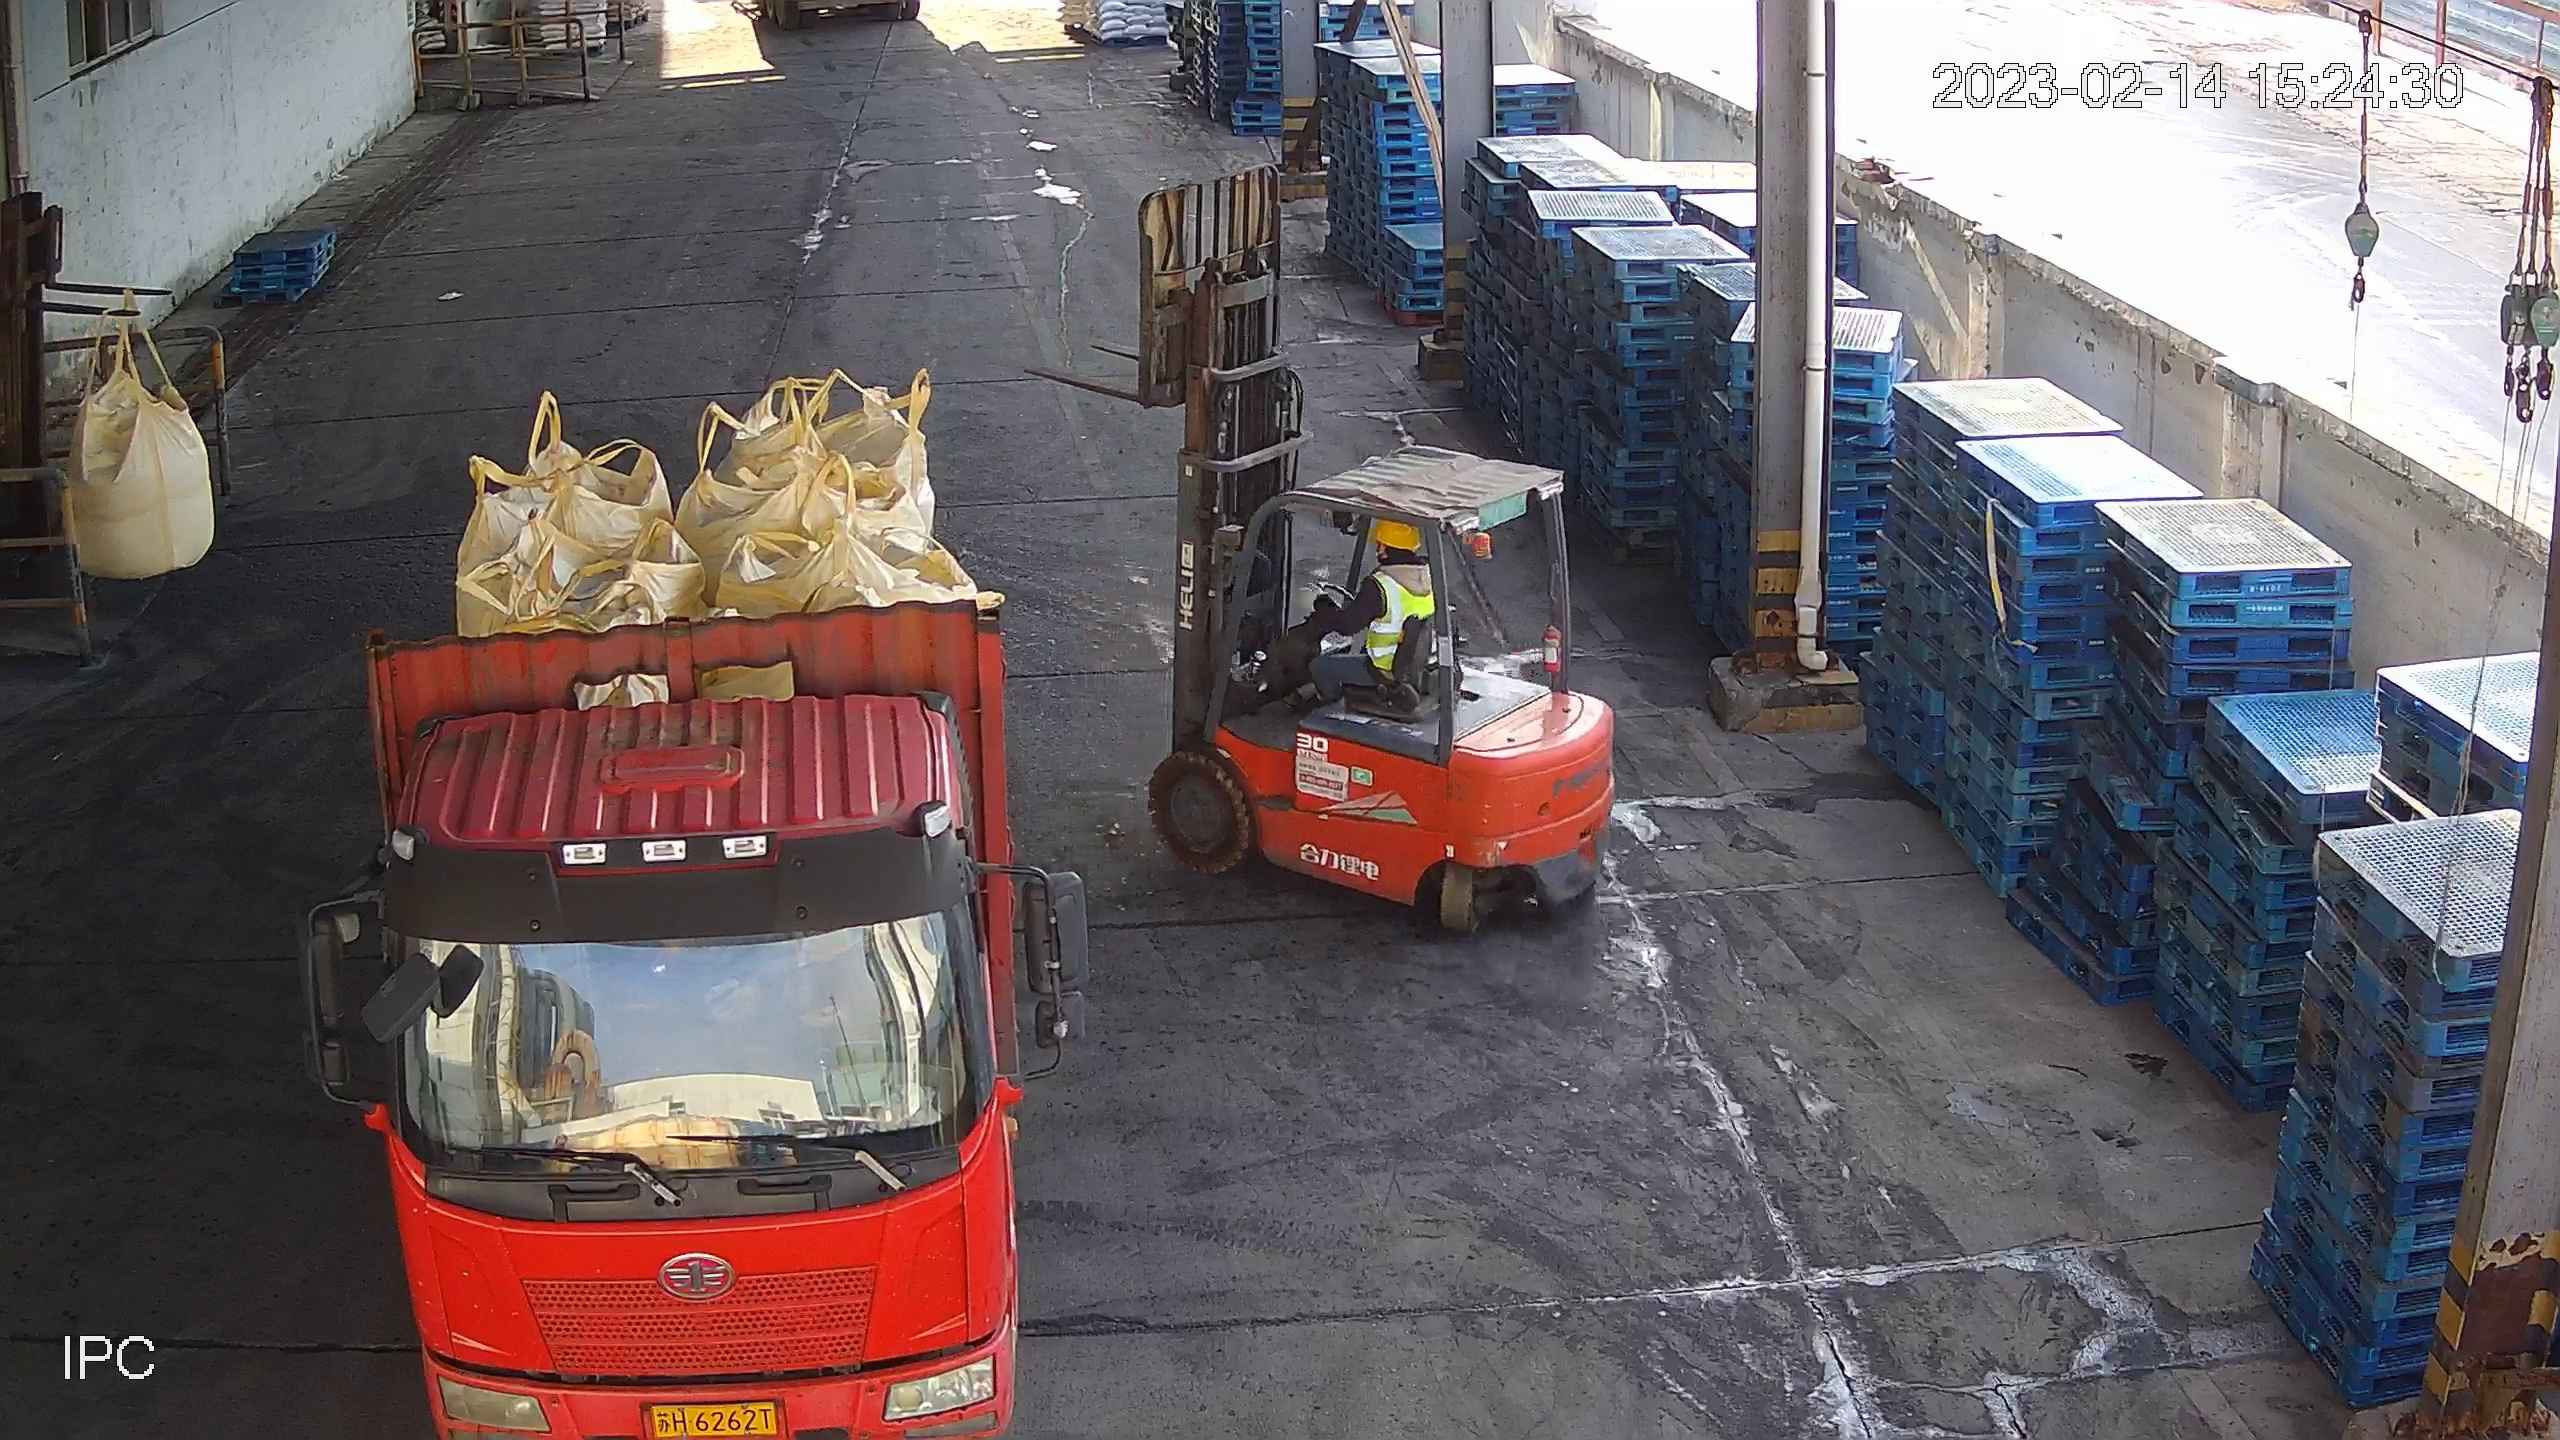head: (1326, 508, 1433, 637)
helmet: (1371, 513, 1419, 552)
people: (1241, 508, 1429, 714)
truck: (297, 444, 1024, 1440)
